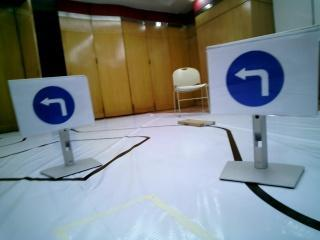left: (213, 48, 311, 111), (13, 83, 92, 131)
